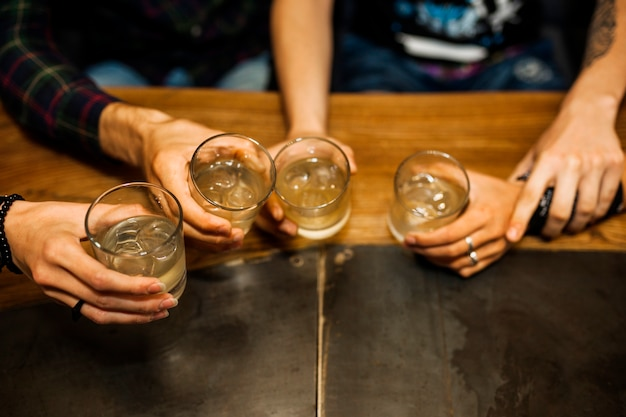alcohol: (83, 181, 188, 312), (188, 131, 278, 238), (269, 136, 356, 241), (391, 149, 474, 249)
